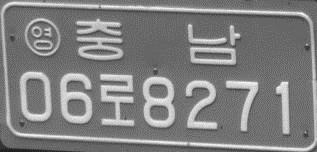0: (18, 70, 52, 123)
1: (268, 80, 301, 136)
2: (184, 79, 219, 131)
6: (58, 71, 93, 126)
7: (224, 79, 258, 132)
8: (141, 75, 176, 128)
로: (98, 72, 136, 127)
영: (23, 16, 61, 58)
충남_D: (75, 17, 240, 65)
